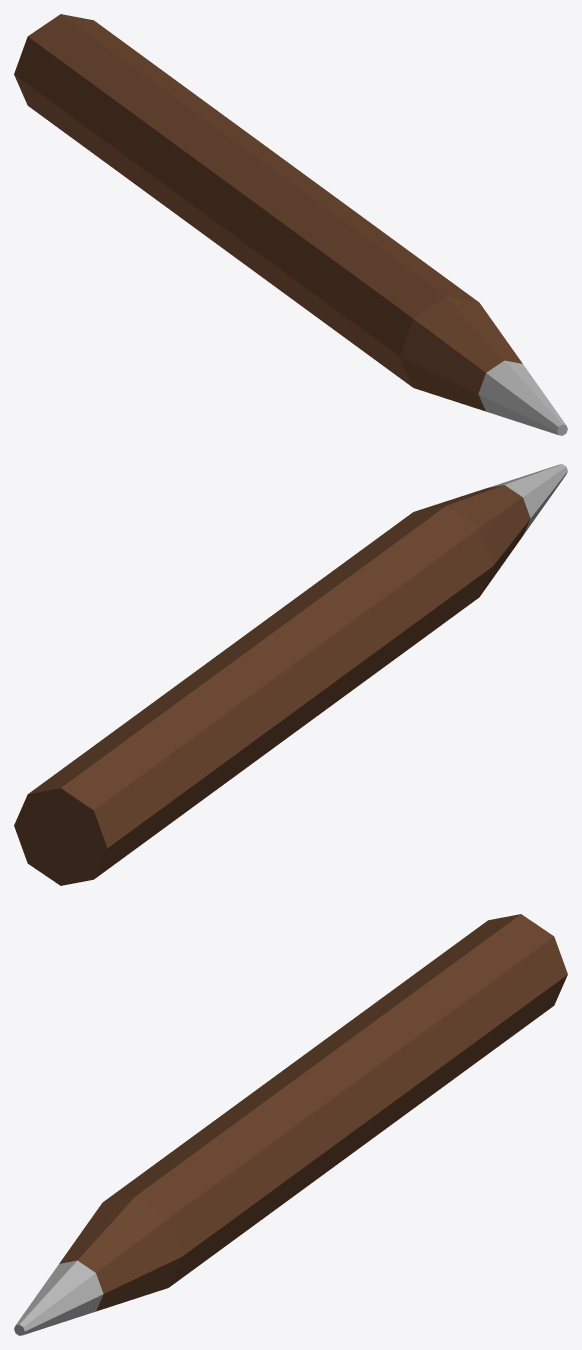
Rendered from char_020_weapon_01_stake_wood_01_FBX.fbx.
3 views of the same model, one above another, from view 1: azimuth 30°, elevation 25°; view 2: azimuth 150°, elevation 25°; view 3: azimuth 330°, elevation 25° (orthographic).
Visible parts, largest first — view 1: weapon_stake_wood_01; view 2: weapon_stake_wood_01; view 3: weapon_stake_wood_01.
Boxes of the visible parts, x1=… form: weapon_stake_wood_01: x1=14, y1=14, x2=567, y2=435; weapon_stake_wood_01: x1=14, y1=464, x2=567, y2=885; weapon_stake_wood_01: x1=14, y1=914, x2=567, y2=1335.
Size of the model in its own units: 0.1162 by 0.1162 by 1.08.
Materials: 1 (1 with a texture image).
